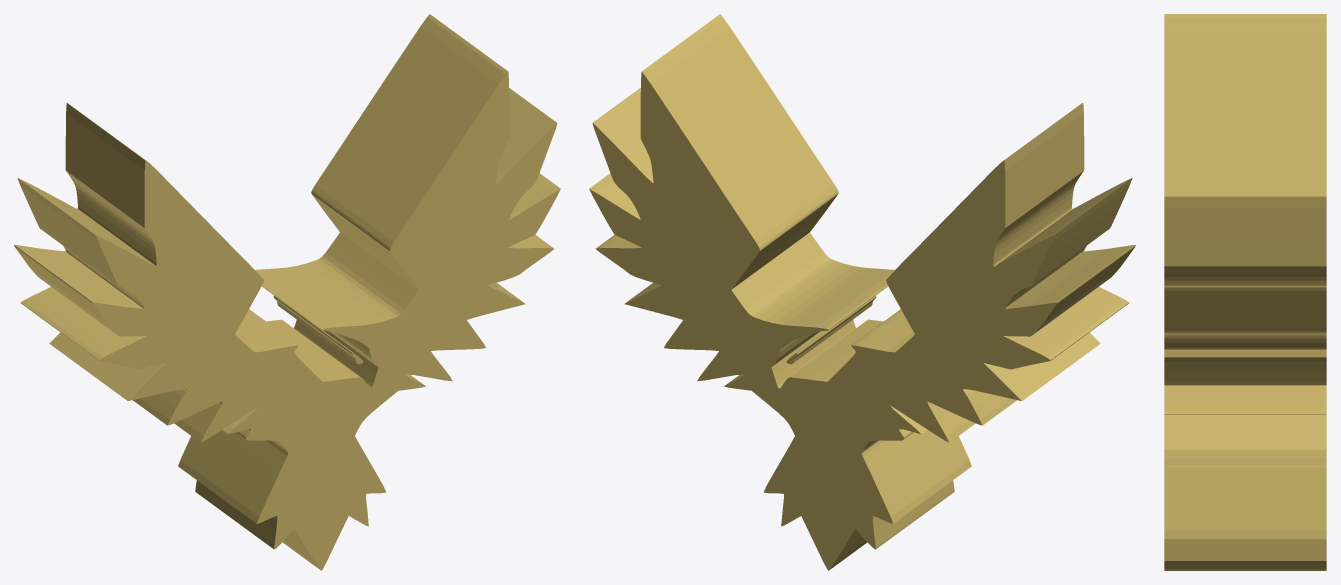
The model's file is Magnificent Elzing-Snicket.glb.
3 renders of one model, left to right at view 1: azimuth 30°, elevation 25°; view 2: azimuth 150°, elevation 25°; view 3: azimuth 270°, elevation 25°, orthographic. The views are drawn at different scales.
Parts seen in each view (by area): view 1: Mesh_Mesh_head_geo.001_lambert2SG.001; view 2: Mesh_Mesh_head_geo.001_lambert2SG.001; view 3: Mesh_Mesh_head_geo.001_lambert2SG.001.
Boxes of the visible parts, x1,y1,x2,y2 form: Mesh_Mesh_head_geo.001_lambert2SG.001: (14,14,560,570); Mesh_Mesh_head_geo.001_lambert2SG.001: (589,14,1135,570); Mesh_Mesh_head_geo.001_lambert2SG.001: (1164,14,1326,570).
Size of the model in its own units: 79 by 73.16 by 23.
